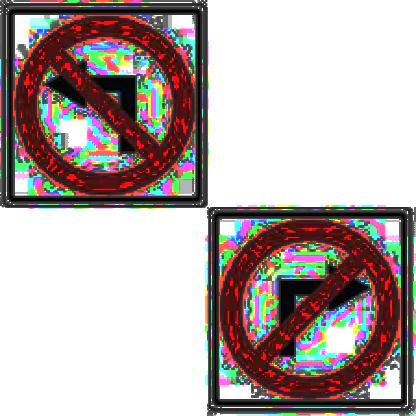No right turn: (214, 210, 409, 407)
